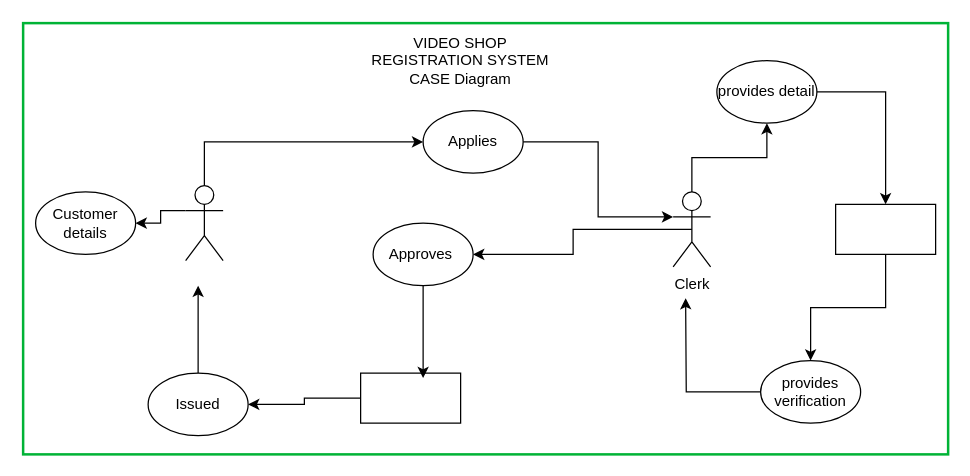
This 970x476 diagram has some shape labels left out. Each missing label, with the box of its shape:
Central computer: (834, 203, 936, 254)
Customer: (184, 184, 223, 261)
Video: (359, 372, 461, 423)
